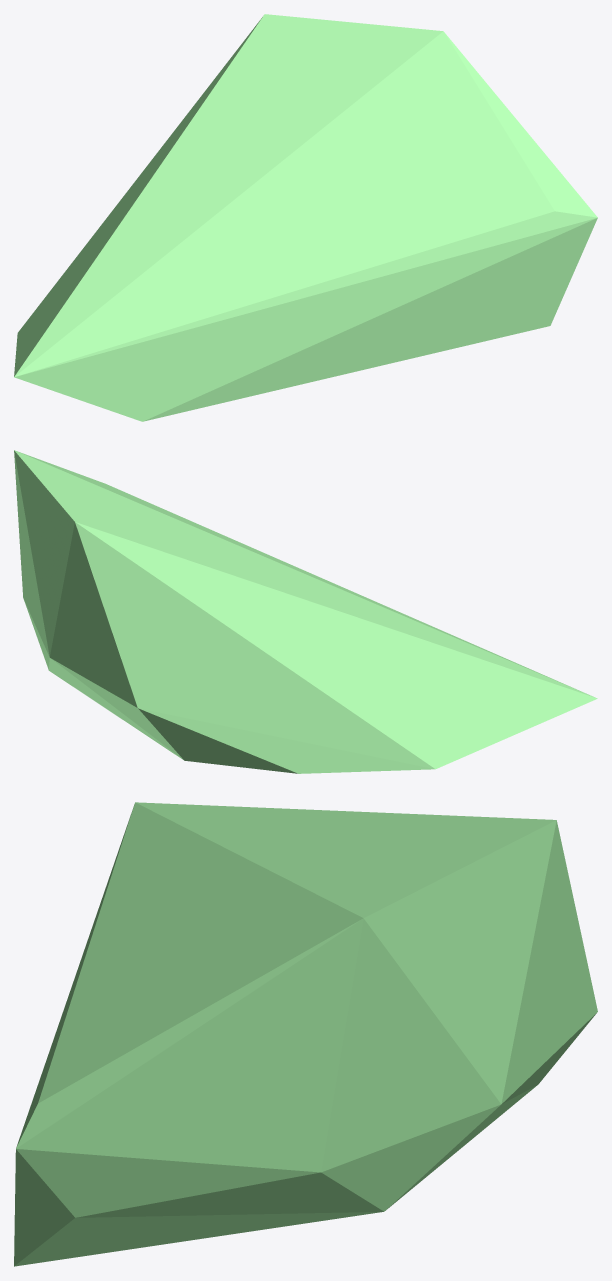
File: linkhou_LR4_R560_link2_respondable_coll_13.dae
3 renders of one model, top to bottom at view 1: azimuth 30°, elevation 25°; view 2: azimuth 150°, elevation 25°; view 3: azimuth 270°, elevation 25°, orthographic. The views are drawn at different scales.
Visible parts, largest first — view 1: Node_00000209DB3AD9B0; view 2: Node_00000209DB3AD9B0; view 3: Node_00000209DB3AD9B0.
Part boxes in pixels (x1,y1,x2,y2): Node_00000209DB3AD9B0: (14,14,597,421); Node_00000209DB3AD9B0: (14,450,597,773); Node_00000209DB3AD9B0: (14,802,597,1266).
Bounding box in the file's own units: 0.1298 × 0.0559 × 0.0741.
